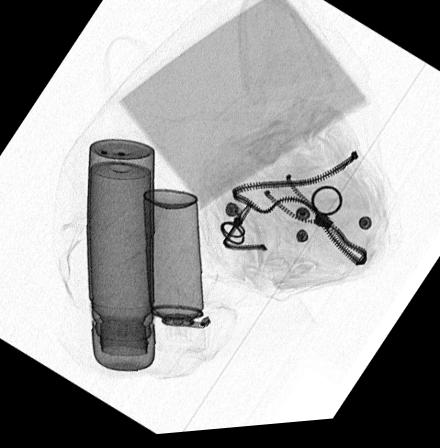Sprayer: (142, 191, 204, 353)
